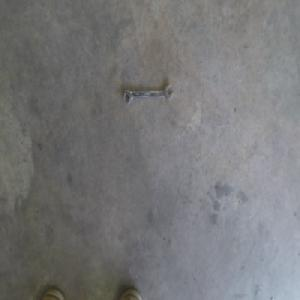Wrench: (122, 84, 174, 105)
